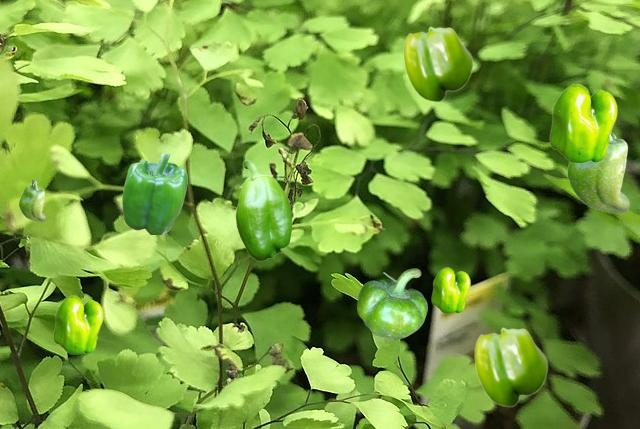bell_pepper: (474, 327, 547, 406), (235, 160, 291, 260), (549, 83, 616, 162), (403, 26, 472, 101), (122, 154, 186, 233), (567, 132, 628, 212), (357, 268, 426, 338), (53, 295, 102, 353), (431, 267, 469, 312), (19, 180, 44, 220)
